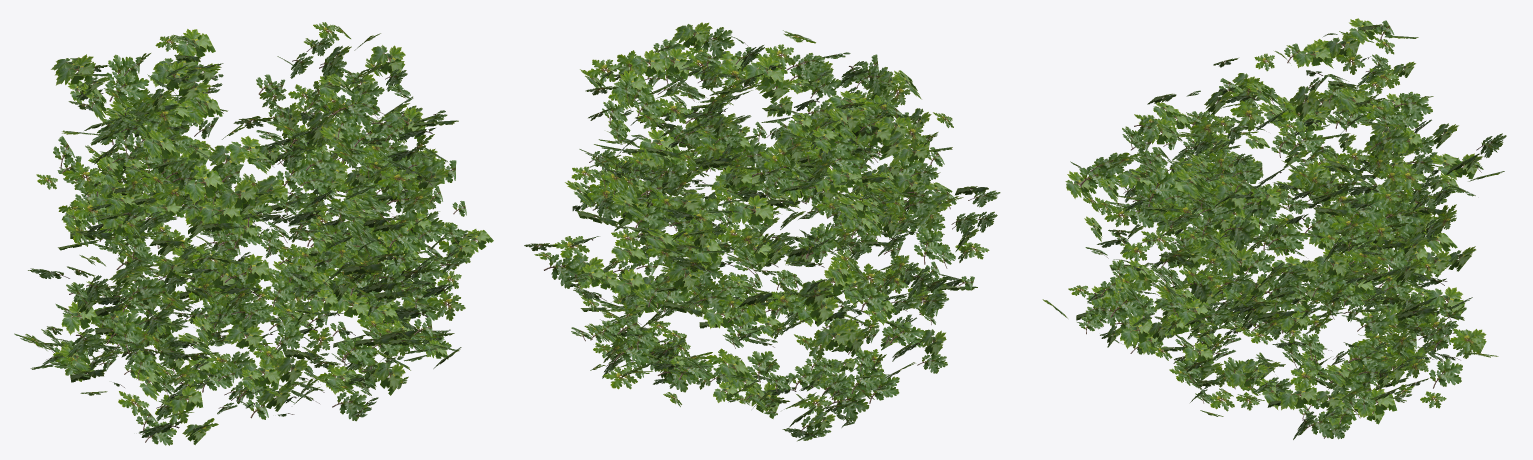
File: leaf_0.fbx
3 renders of one model, left to right at view 1: azimuth 30°, elevation 25°; view 2: azimuth 150°, elevation 25°; view 3: azimuth 270°, elevation 25°, orthographic. The views are drawn at different scales.
Parts seen in each view (by area): view 1: leaf_0; view 2: leaf_0; view 3: leaf_0.
Part boxes in pixels (x1=…): leaf_0: x1=14, y1=22, x2=493, y2=445; leaf_0: x1=524, y1=22, x2=1000, y2=441; leaf_0: x1=1042, y1=18, x2=1506, y2=439.
Size of what is drawn, in the model's own units: 4.73 by 4.12 by 5.28.
1 material, 1 textured.
